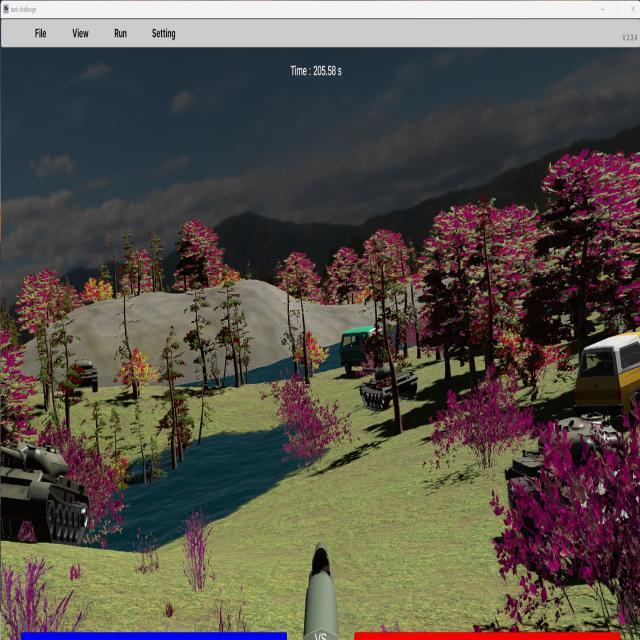Tank: (505, 411, 639, 545), (0, 440, 90, 545), (359, 362, 418, 410)
car: (574, 332, 640, 429), (340, 326, 386, 376)
